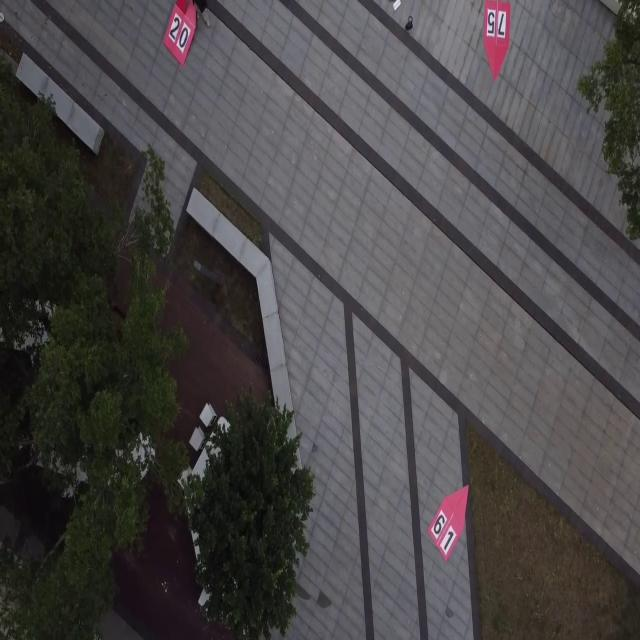-sign-: (429, 483, 469, 561), (162, 0, 196, 66), (483, 0, 510, 82)
